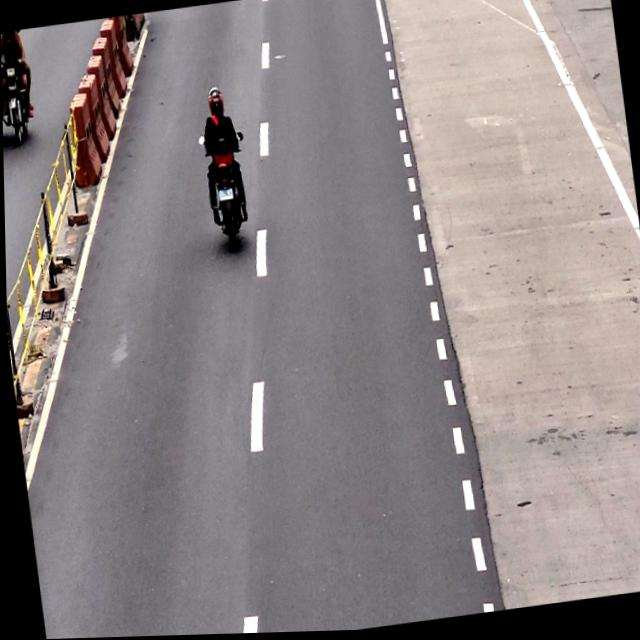License-Plate: (217, 189, 233, 203)
Motorcycle: (191, 86, 254, 259)
